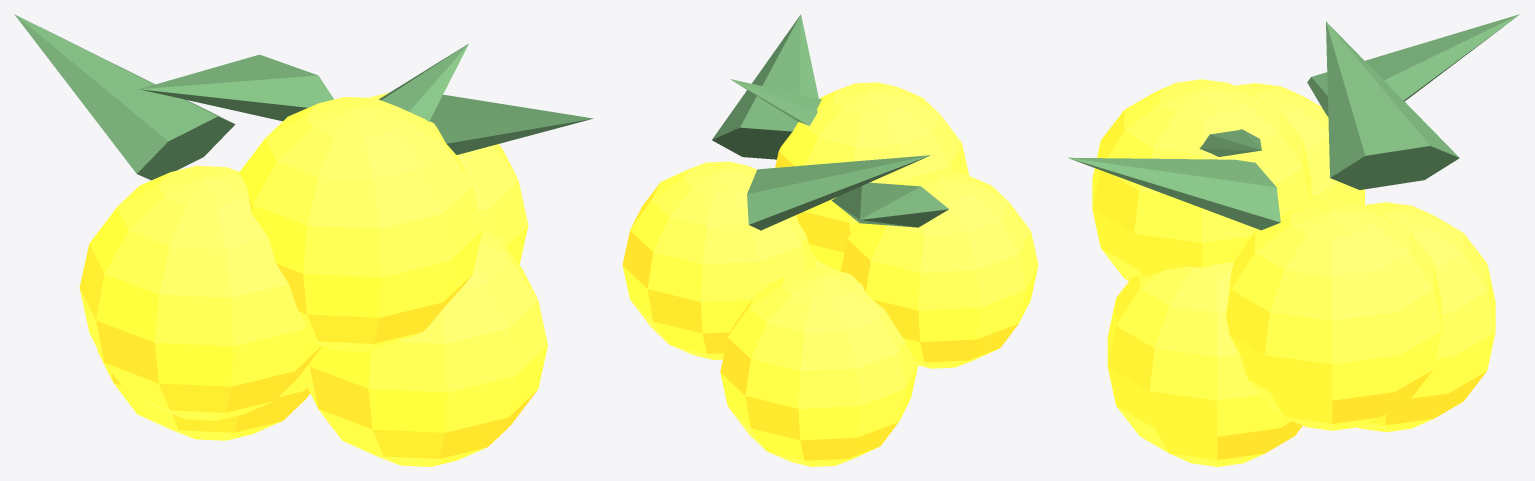
File: 4099_emberbulb.glb
3 views of the same model, side by side, from view 1: azimuth 30°, elevation 25°; view 2: azimuth 150°, elevation 25°; view 3: azimuth 270°, elevation 25° (orthographic). The views are drawn at different scales.
Bounding box in the file's own units: 0.62 × 0.5058 × 0.5903.
